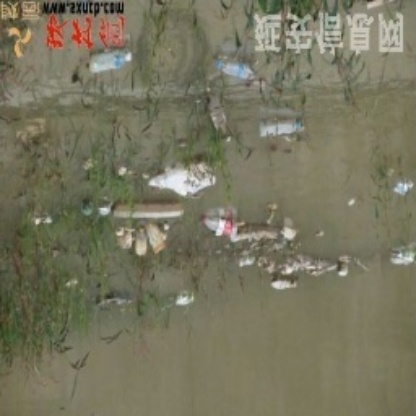bottle: (259, 112, 305, 141), (197, 206, 241, 236), (87, 48, 135, 74), (214, 57, 257, 81)
